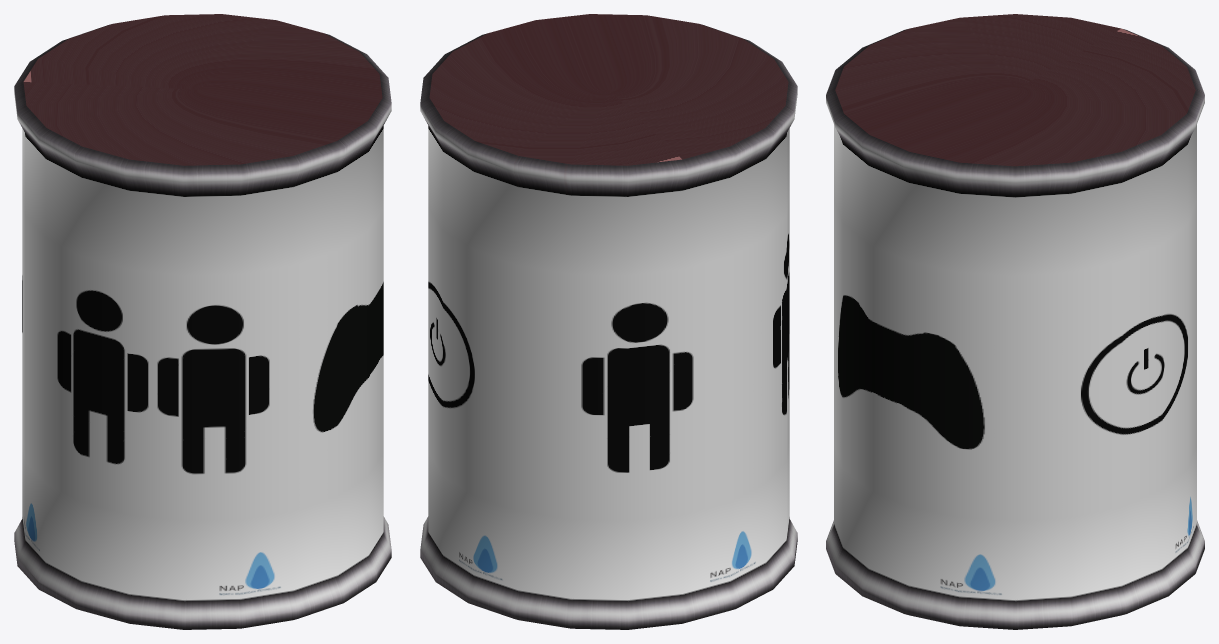
Rendered from oilBarrel_MainMenu.fbx.
3 renders of one model, left to right at view 1: azimuth 30°, elevation 25°; view 2: azimuth 150°, elevation 25°; view 3: azimuth 270°, elevation 25°, orthographic.
Visible parts, largest first — view 1: pCylinder2; view 2: pCylinder2; view 3: pCylinder2.
Part boxes in pixels (x1,y1,x2,y2): pCylinder2: [14, 14, 391, 629]; pCylinder2: [420, 14, 797, 629]; pCylinder2: [826, 14, 1204, 629].
Size of the model in its own units: 7.76 by 10.48 by 7.76.
Materials: 1 (1 with a texture image).
